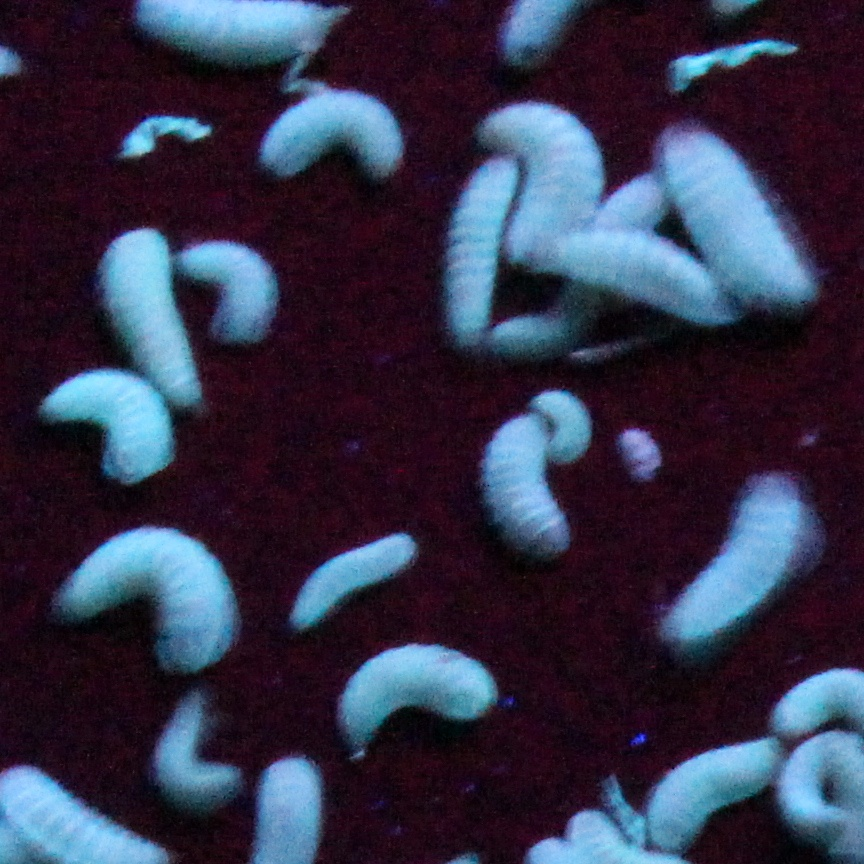larve: (660, 473, 806, 649), (62, 526, 234, 675), (679, 136, 809, 289), (104, 228, 197, 406), (441, 159, 521, 335), (492, 101, 581, 259), (344, 654, 493, 747), (558, 236, 723, 317), (655, 733, 772, 833), (53, 375, 165, 471), (269, 96, 400, 175), (492, 417, 563, 554), (183, 242, 272, 345), (297, 529, 406, 612), (165, 694, 232, 792), (600, 180, 667, 247), (790, 742, 827, 840), (542, 391, 586, 464)
